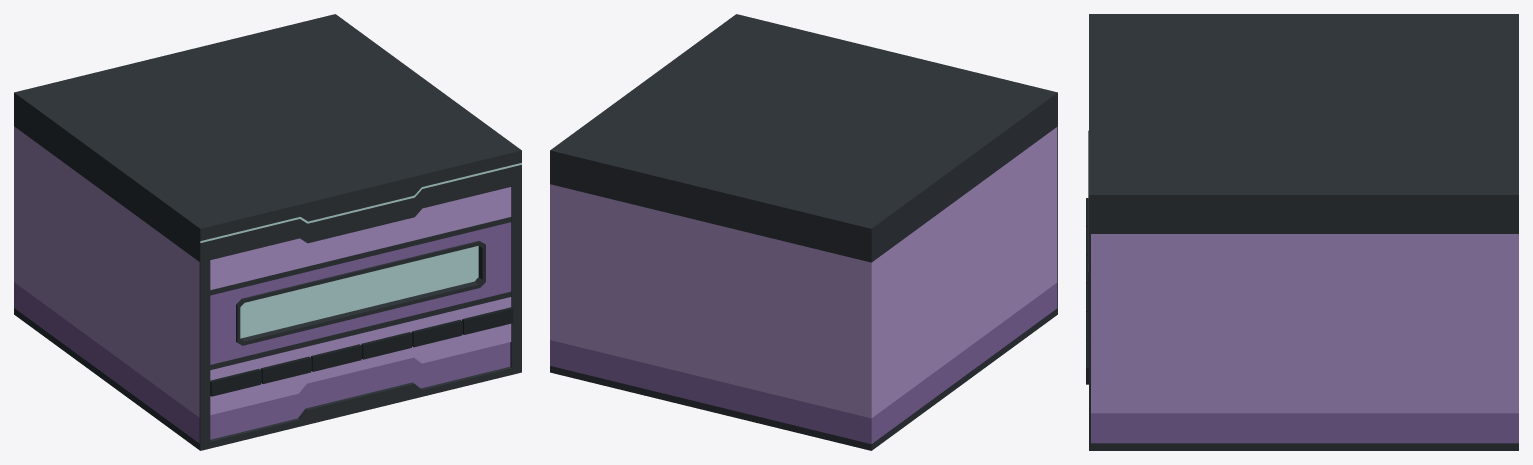
The model's file is SM_BuildingPart_19.fbx.
The picture shows the model from 3 angles, left to right: view 1: azimuth 30°, elevation 25°; view 2: azimuth 150°, elevation 25°; view 3: azimuth 270°, elevation 25°; orthographic projection. The views are drawn at different scales.
Parts seen in each view (by area): view 1: SM_BuildingPart_19; view 2: SM_BuildingPart_19; view 3: SM_BuildingPart_19.
Part boxes in pixels (x1=…): SM_BuildingPart_19: x1=14, y1=14, x2=521, y2=450; SM_BuildingPart_19: x1=550, y1=14, x2=1057, y2=450; SM_BuildingPart_19: x1=1086, y1=14, x2=1518, y2=450.
Bounding box in the file's own units: 500 × 330 × 506.
